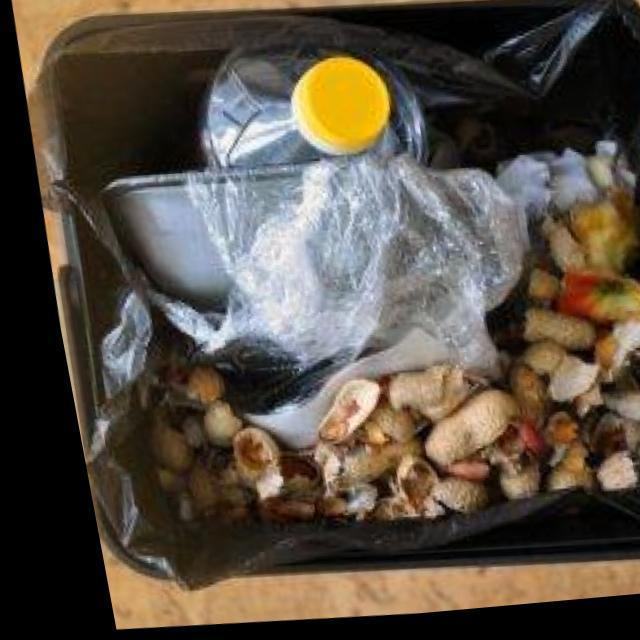Garbage: (94, 28, 640, 529)
contaminated_waste: (172, 146, 512, 380), (99, 46, 417, 261)
